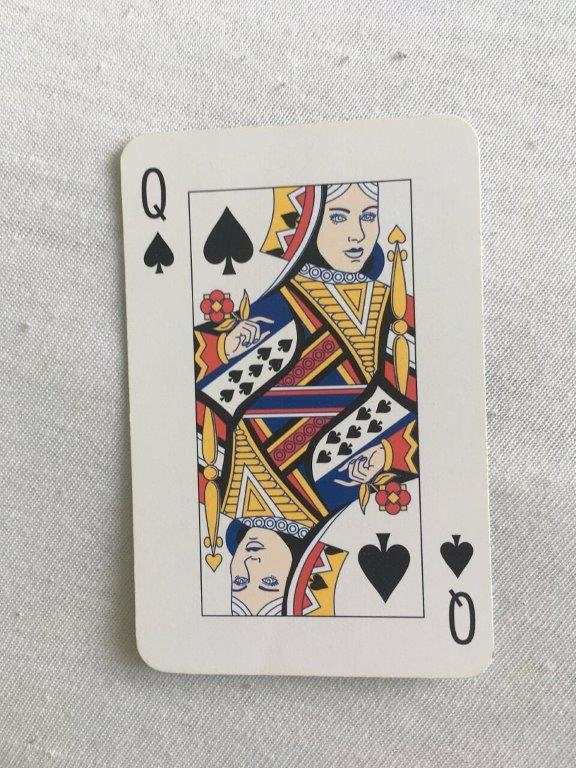QS: (116, 111, 498, 682)
